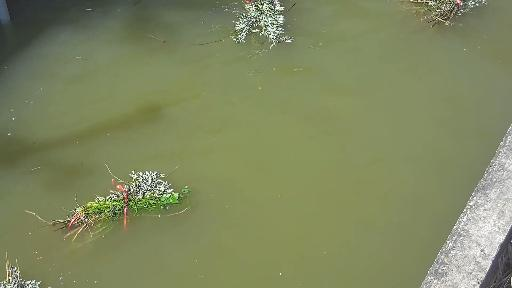twig: (26, 168, 187, 241), (198, 0, 312, 46), (394, 0, 478, 23), (0, 255, 43, 288)
